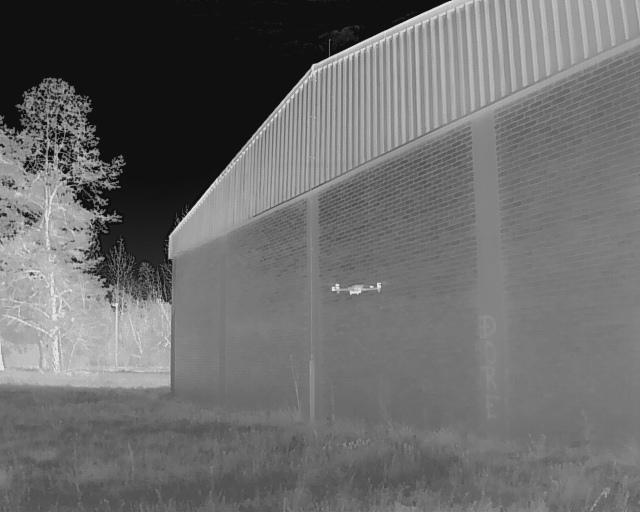drone: (321, 275, 392, 304)
